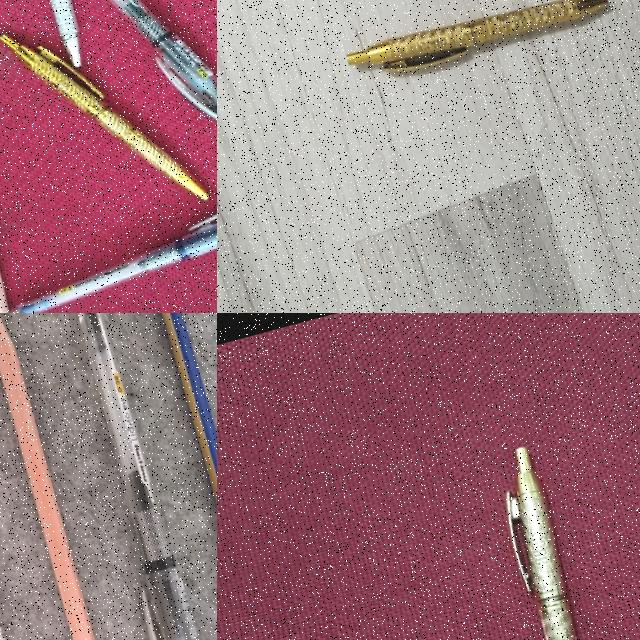pen: (59, 313, 217, 640), (5, 181, 217, 313), (63, 0, 217, 148)
pencil: (0, 313, 168, 640), (137, 313, 217, 640), (0, 18, 34, 313)
signature pen: (1, 34, 208, 198), (484, 442, 616, 640), (346, 0, 606, 72), (0, 0, 96, 76)
